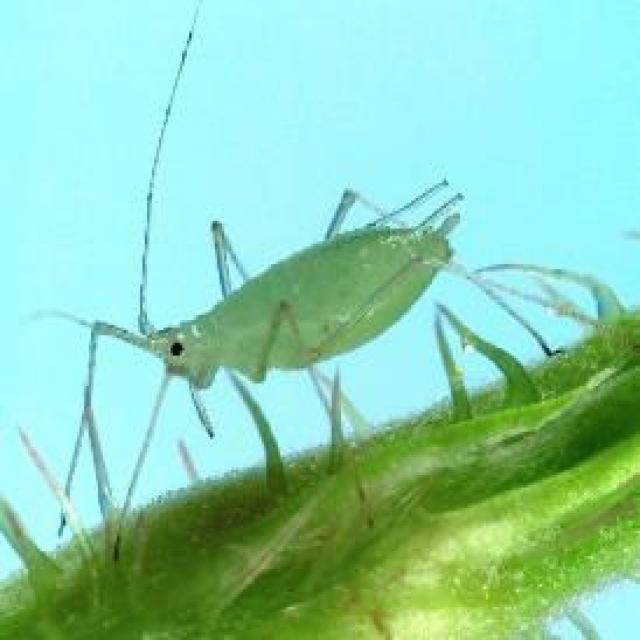Aphids: (41, 100, 548, 486)
